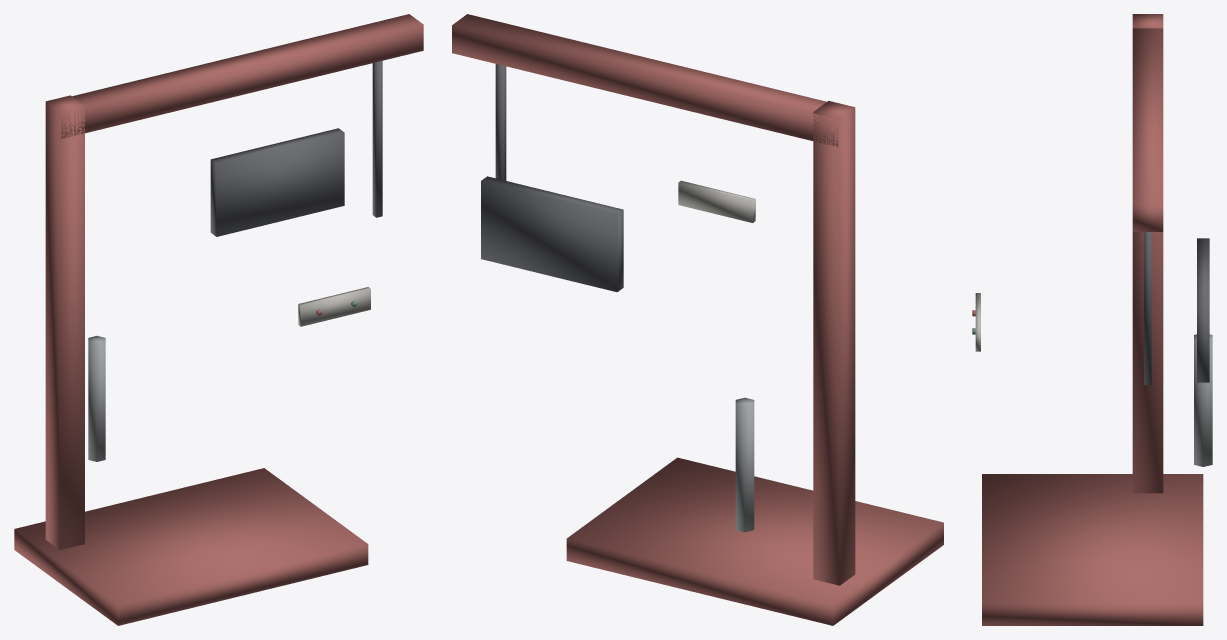
File: engine_hoist__service.glb
3 views of the same model, side by side, from view 1: azimuth 30°, elevation 25°; view 2: azimuth 150°, elevation 25°; view 3: azimuth 270°, elevation 25° (orthographic). The views are drawn at different scales.
Visible parts, largest first — view 1: world; view 2: world; view 3: world.
Boxes of the visible parts, x1,y1,x2,y2 form: world: [14, 14, 423, 625]; world: [452, 14, 943, 625]; world: [972, 14, 1212, 625].
Bounding box in the file's own units: 1.5 × 1.75 × 0.7813.
